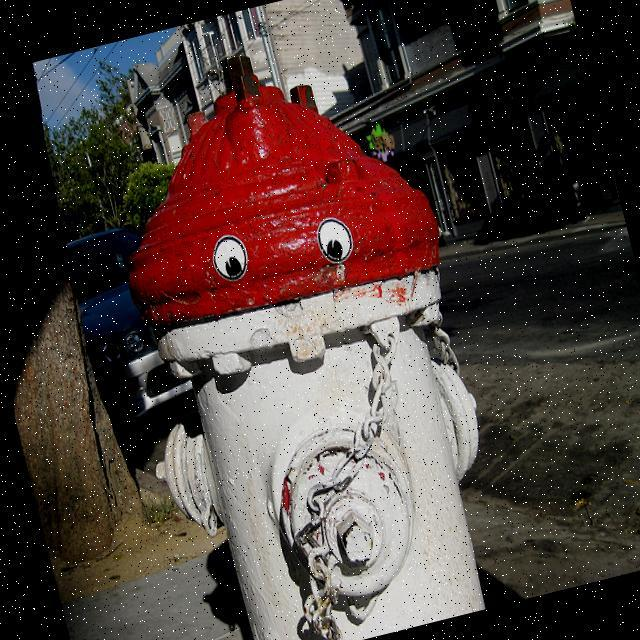fire_hydrant: (57, 11, 535, 640)
